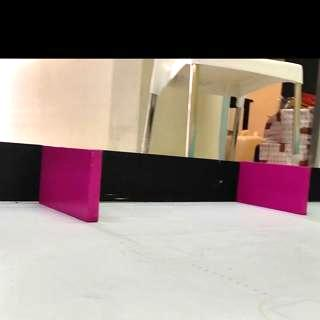xparking: (45, 148, 100, 222), (244, 166, 307, 215)
